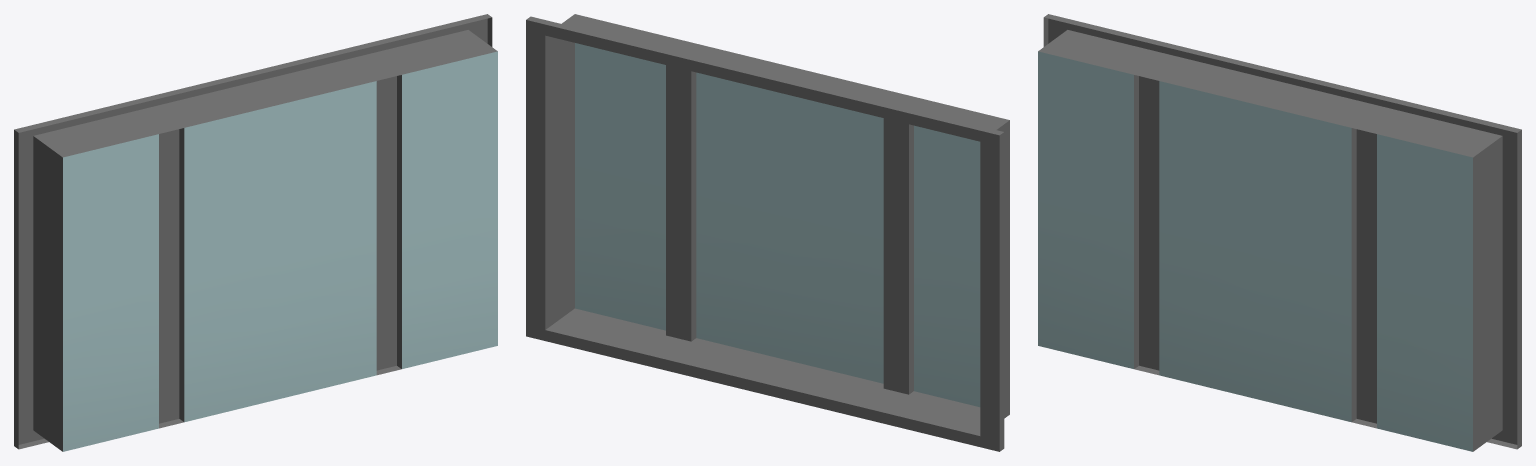
Rendered from New_windows _side.fbx.
3 views of the same model, side by side, from view 1: azimuth 30°, elevation 25°; view 2: azimuth 150°, elevation 25°; view 3: azimuth 330°, elevation 25° (orthographic).
Visible parts, largest first — view 1: New_windows _side; view 2: New_windows _side; view 3: New_windows _side.
Part boxes in pixels (x1,y1,x2,y2): New_windows _side: (14, 14, 497, 451); New_windows _side: (526, 14, 1009, 451); New_windows _side: (1038, 14, 1521, 451).
Size of the model in its own units: 5.53 by 0.5974 by 3.53.
